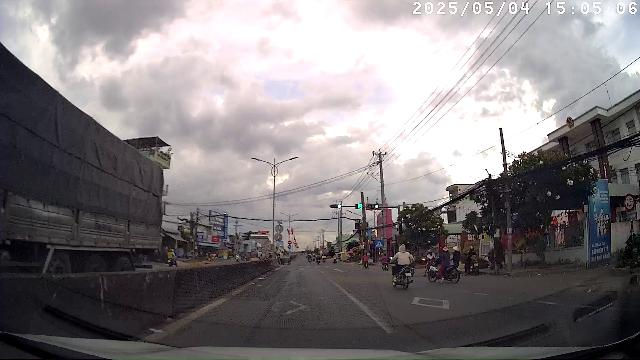423a-duong-nguoi-di-bo-sang-ngang-1: (374, 240, 384, 248)
